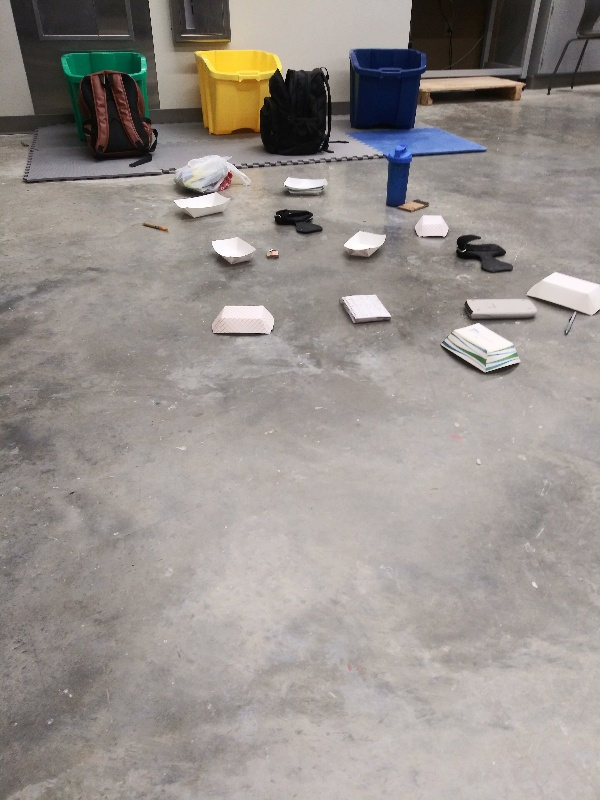plate: (438, 320, 525, 378), (525, 263, 600, 320), (210, 300, 279, 338), (172, 188, 234, 221), (340, 229, 388, 263), (205, 234, 259, 264), (277, 174, 334, 202), (410, 211, 454, 239)
